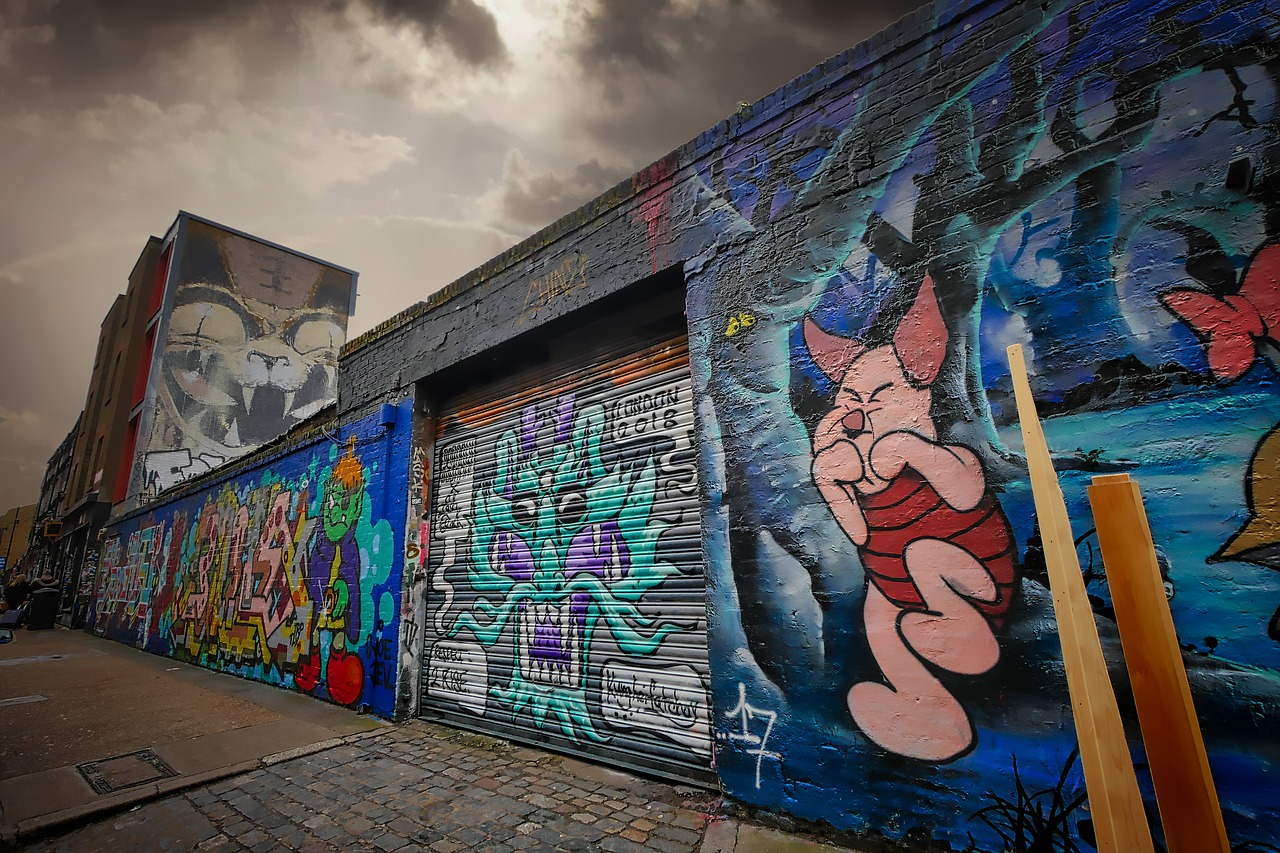graphite: (789, 301, 1031, 766), (433, 431, 724, 747), (1159, 243, 1280, 572), (175, 270, 325, 446), (182, 498, 301, 685), (301, 465, 386, 712), (91, 532, 179, 659), (722, 683, 790, 782)
